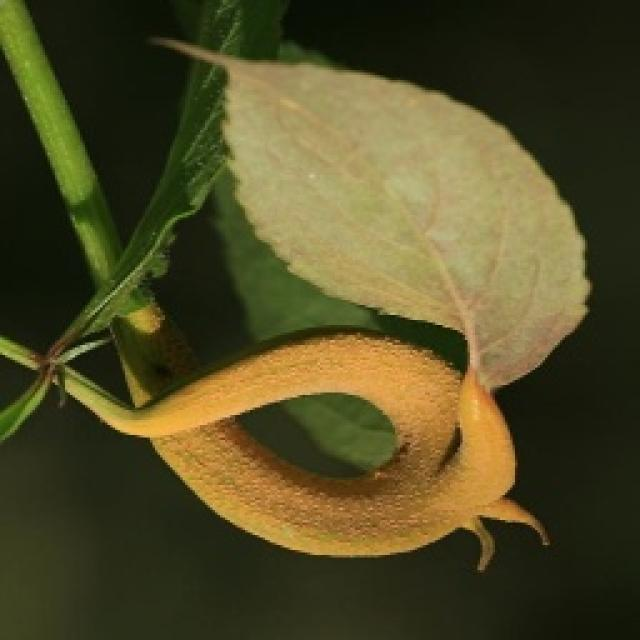Elderberry_rust: (124, 305, 551, 581)
